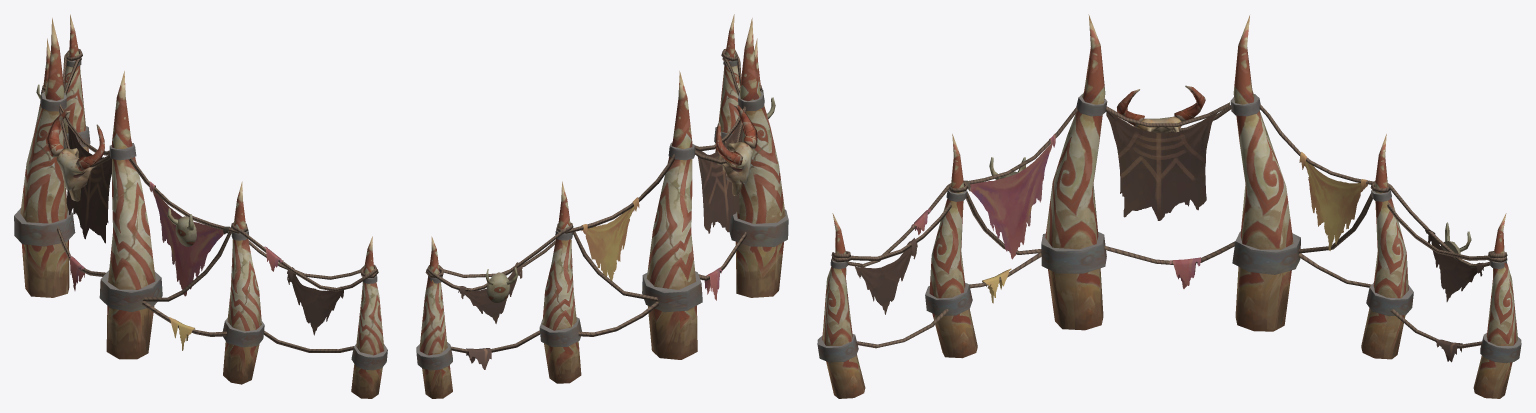
File: Area_Common_Build_Hili_House_10_Lod0.fbx
The picture shows the model from 3 angles, left to right: view 1: azimuth 30°, elevation 25°; view 2: azimuth 150°, elevation 25°; view 3: azimuth 270°, elevation 25°; orthographic projection. The views are drawn at different scales.
Visible parts, largest first — view 1: Area_Common_Build_Hili_House_10_Lod0; view 2: Area_Common_Build_Hili_House_10_Lod0; view 3: Area_Common_Build_Hili_House_10_Lod0.
Boxes of the visible parts, x1,y1,x2,y2 form: Area_Common_Build_Hili_House_10_Lod0: (14,14,387,398); Area_Common_Build_Hili_House_10_Lod0: (416,14,788,398); Area_Common_Build_Hili_House_10_Lod0: (817,14,1521,398).
Size of the model in its own units: 2.3 by 3.42 by 7.03.
Materials: 3 (3 with a texture image).
